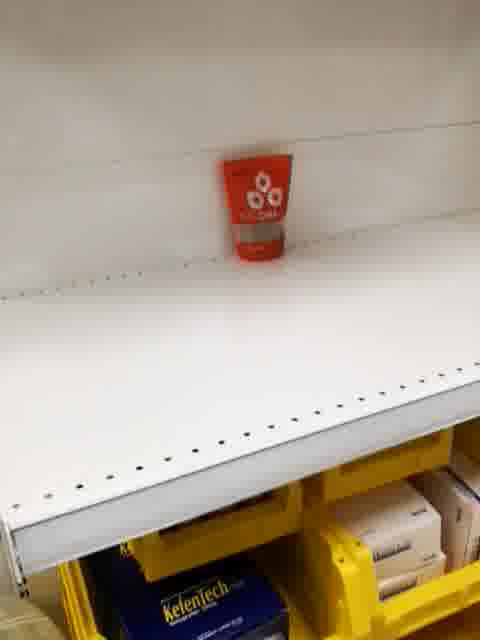whitechia: (219, 148, 297, 267)
